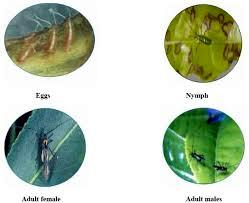Helopeltis-insect: (35, 131, 60, 182), (189, 146, 208, 168), (191, 31, 216, 46), (209, 159, 231, 175)
